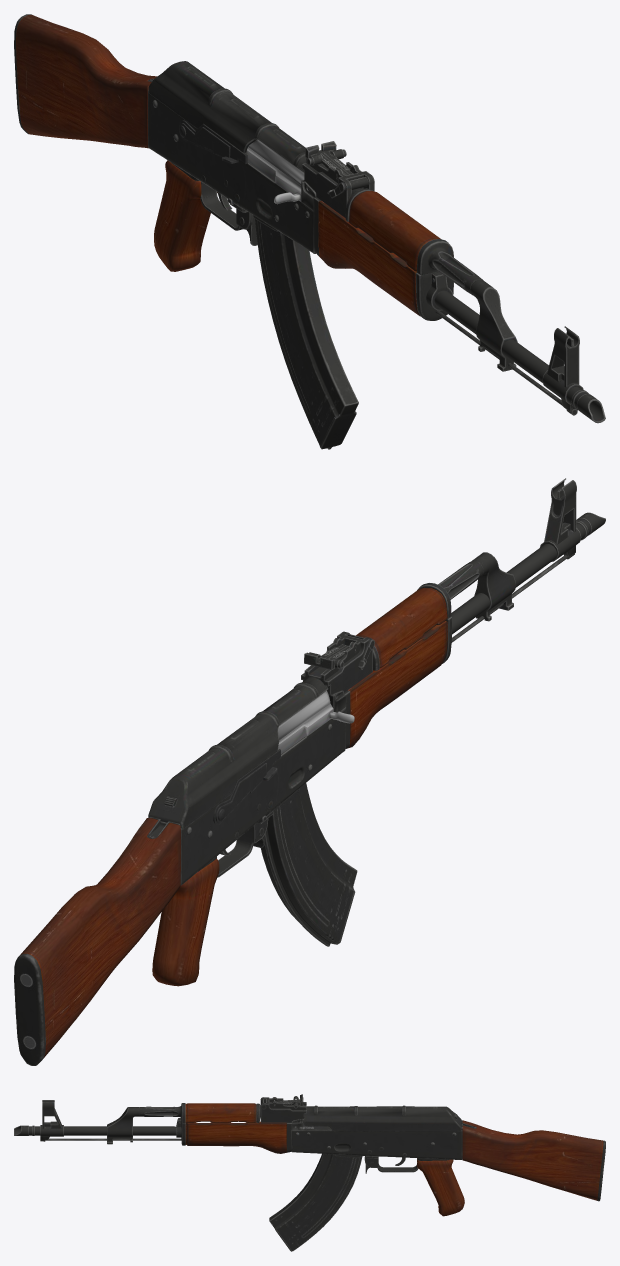
The picture shows the model from 3 angles, top to bottom: view 1: azimuth 30°, elevation 25°; view 2: azimuth 150°, elevation 25°; view 3: azimuth 270°, elevation 25°; orthographic projection. The views are drawn at different scales.
Visible parts, largest first — view 1: None; view 2: None; view 3: None.
Boxes of the visible parts, bbox=[...] form: None: bbox=[14, 14, 605, 449]; None: bbox=[14, 478, 605, 1065]; None: bbox=[14, 1094, 605, 1251].
Size of the model in its own units: 0.0533 by 0.2522 by 0.8817.
Materials: 1 (1 with a texture image).
